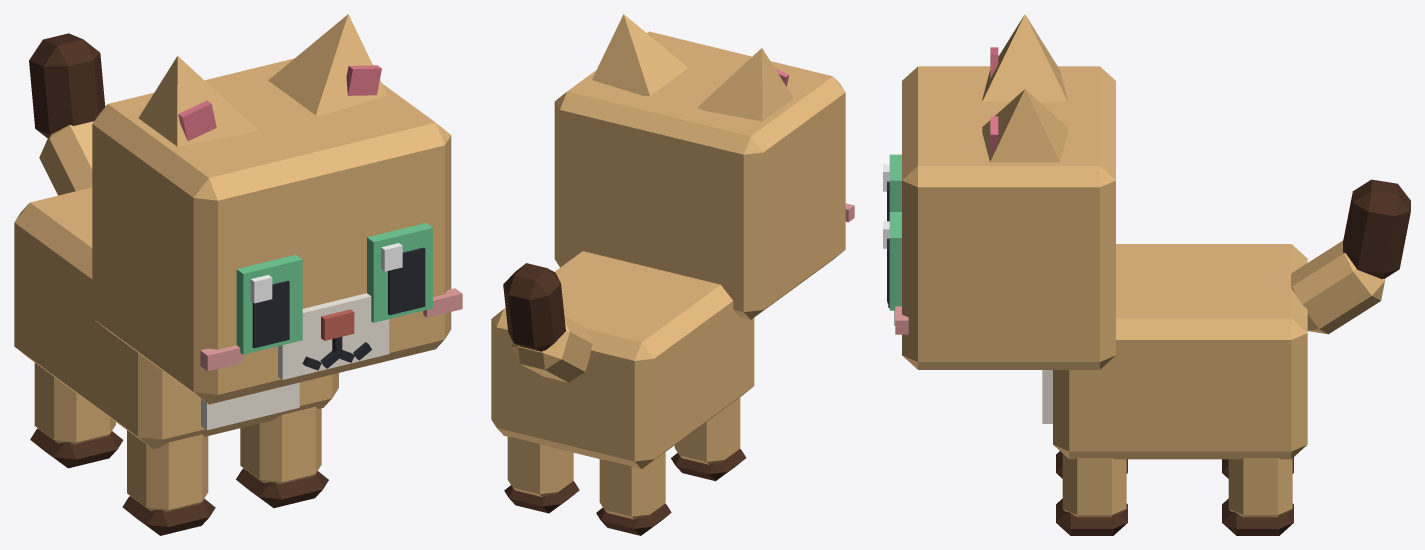
Rendered from CatCafe_Cat_Biscuit.glb.
The picture shows the model from 3 angles, left to right: view 1: azimuth 30°, elevation 25°; view 2: azimuth 150°, elevation 25°; view 3: azimuth 270°, elevation 25°; orthographic projection. The views are drawn at different scales.
Parts seen in each view (by area): view 1: CatCafe_Cat_Biscuit_Head, CatCafe_Cat_Biscuit_Body, CatCafe_Cat_Biscuit_Tail, CatCafe_Cat_Biscuit_LegF2, CatCafe_Cat_Biscuit_LegF1, CatCafe_Cat_Biscuit_EarL, CatCafe_Cat_Biscuit_Eye2, CatCafe_Cat_Biscuit_LegB2, CatCafe_Cat_Biscuit_Eye1, CatCafe_Cat_Biscuit_EarR; view 2: CatCafe_Cat_Biscuit_Head, CatCafe_Cat_Biscuit_Body, CatCafe_Cat_Biscuit_Tail, CatCafe_Cat_Biscuit_LegB2, CatCafe_Cat_Biscuit_EarL, CatCafe_Cat_Biscuit_LegB1, CatCafe_Cat_Biscuit_EarR, CatCafe_Cat_Biscuit_LegF2; view 3: CatCafe_Cat_Biscuit_Head, CatCafe_Cat_Biscuit_Body, CatCafe_Cat_Biscuit_Tail, CatCafe_Cat_Biscuit_LegF1, CatCafe_Cat_Biscuit_LegB1, CatCafe_Cat_Biscuit_EarL, CatCafe_Cat_Biscuit_EarR, CatCafe_Cat_Biscuit_Eye1, CatCafe_Cat_Biscuit_Eye2.
Part boxes in pixels (<box>): CatCafe_Cat_Biscuit_Head: <box>92,58,462,404</box>; CatCafe_Cat_Biscuit_Body: <box>14,187,338,449</box>; CatCafe_Cat_Biscuit_Tail: <box>29,33,105,195</box>; CatCafe_Cat_Biscuit_LegF2: <box>122,430,215,535</box>; CatCafe_Cat_Biscuit_LegF1: <box>236,406,328,507</box>; CatCafe_Cat_Biscuit_EarL: <box>268,14,387,115</box>; CatCafe_Cat_Biscuit_Eye2: <box>236,254,302,354</box>; CatCafe_Cat_Biscuit_LegB2: <box>30,362,123,468</box>; CatCafe_Cat_Biscuit_Eye1: <box>367,223,432,322</box>; CatCafe_Cat_Biscuit_EarR: <box>138,56,257,146</box>; CatCafe_Cat_Biscuit_Head: <box>554,31,854,319</box>; CatCafe_Cat_Biscuit_Body: <box>491,251,754,469</box>; CatCafe_Cat_Biscuit_Tail: <box>503,263,592,382</box>; CatCafe_Cat_Biscuit_LegB2: <box>596,452,671,535</box>; CatCafe_Cat_Biscuit_EarL: <box>592,14,688,95</box>; CatCafe_Cat_Biscuit_LegB1: <box>504,437,579,513</box>; CatCafe_Cat_Biscuit_EarR: <box>697,48,793,121</box>; CatCafe_Cat_Biscuit_LegF2: <box>671,397,746,481</box>; CatCafe_Cat_Biscuit_Head: <box>887,66,1115,369</box>; CatCafe_Cat_Biscuit_Body: <box>1042,244,1307,459</box>; CatCafe_Cat_Biscuit_Tail: <box>1291,179,1410,334</box>; CatCafe_Cat_Biscuit_LegF1: <box>1056,454,1127,535</box>; CatCafe_Cat_Biscuit_LegB1: <box>1222,458,1293,535</box>; CatCafe_Cat_Biscuit_EarL: <box>982,89,1067,162</box>; CatCafe_Cat_Biscuit_EarR: <box>982,14,1067,101</box>; CatCafe_Cat_Biscuit_Eye1: <box>883,212,901,310</box>; CatCafe_Cat_Biscuit_Eye2: <box>883,154,901,221</box>.
Size of the model in its own units: 1 by 1.86 by 1.97.
Materials: 1 (1 with a texture image).
